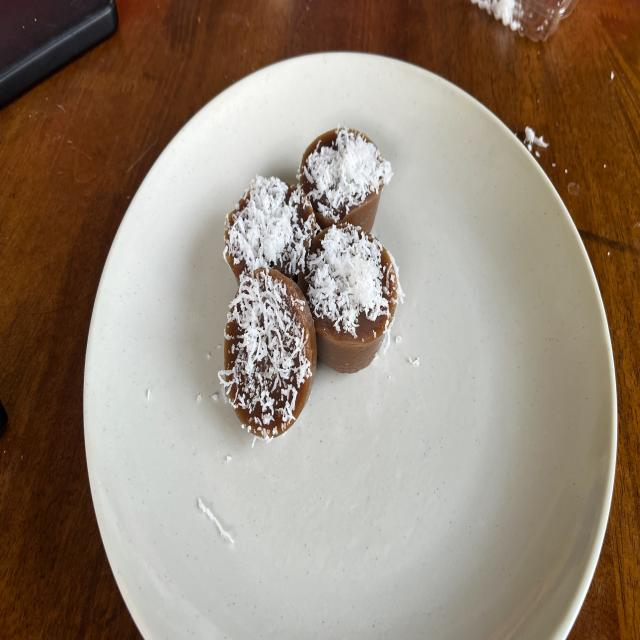Kuih lompang: (219, 267, 316, 440), (305, 224, 404, 373), (298, 127, 392, 231)
